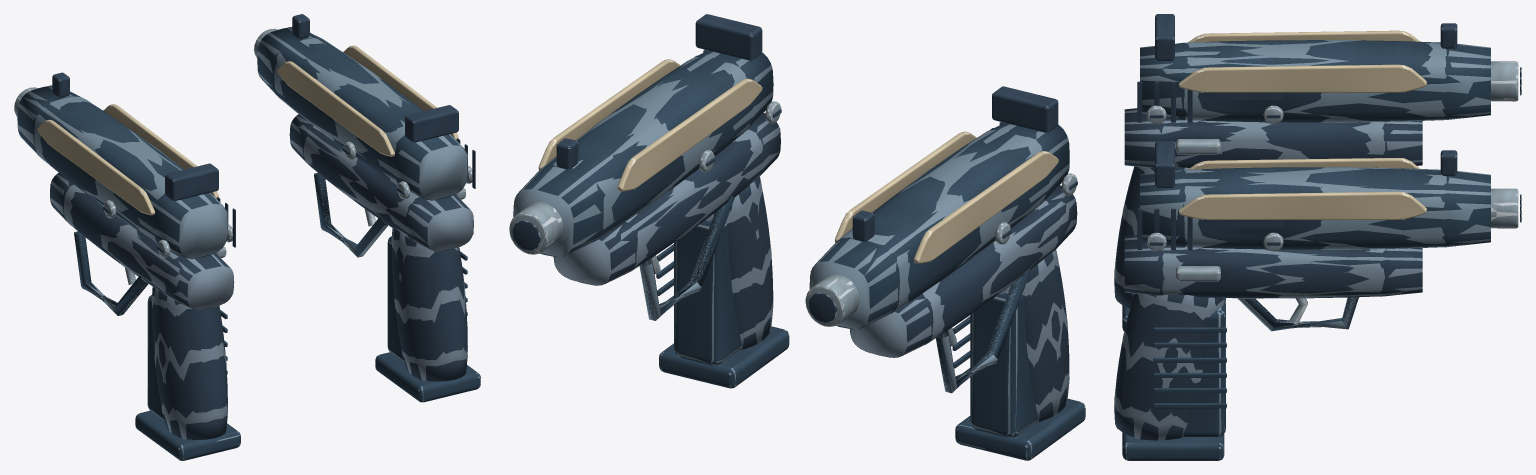
Rendered from anime-elite.glb.
3 renders of one model, left to right at view 1: azimuth 30°, elevation 25°; view 2: azimuth 150°, elevation 25°; view 3: azimuth 270°, elevation 25°, orthographic. The views are drawn at different scales.
Parts seen in each view (by area): view 1: weapon_Polymer, slide_Weapon finish / Parkerized steel, World hardware, World paint, slide_Weapon finish / Twin ivory inlay, magazine_Parkerized steel, slide_Polymer, weapon_Parkerized steel, weapon_Machined edges; view 2: slide_Weapon finish / Parkerized steel, weapon_Polymer, magazine_Parkerized steel, World hardware, World paint, slide_Weapon finish / Twin ivory inlay, slide_Polymer, weapon_Parkerized steel, weapon_Machined edges; view 3: weapon_Polymer, slide_Weapon finish / Parkerized steel, slide_Weapon finish / Twin ivory inlay, World paint, World hardware, magazine_Parkerized steel, weapon_Machined edges, slide_Polymer, weapon_Parkerized steel.
Part boxes in pixels (x1,y1,x2,y2): weapon_Polymer: [50, 114, 473, 439]; slide_Weapon finish / Parkerized steel: [17, 27, 467, 258]; World hardware: [14, 14, 480, 460]; World paint: [17, 27, 467, 259]; slide_Weapon finish / Twin ivory inlay: [38, 45, 458, 215]; magazine_Parkerized steel: [135, 236, 480, 460]; slide_Polymer: [52, 14, 475, 247]; weapon_Parkerized steel: [74, 173, 467, 374]; weapon_Machined edges: [14, 29, 472, 257]; slide_Weapon finish / Parkerized steel: [513, 50, 1069, 329]; weapon_Polymer: [512, 109, 1077, 421]; magazine_Parkerized steel: [659, 220, 1085, 460]; World hardware: [509, 14, 1085, 460]; World paint: [514, 50, 1069, 329]; slide_Weapon finish / Twin ivory inlay: [538, 59, 1058, 263]; slide_Polymer: [556, 14, 1058, 241]; weapon_Parkerized steel: [641, 196, 1030, 393]; weapon_Machined edges: [509, 101, 1076, 326]; weapon_Polymer: [1114, 67, 1521, 440]; slide_Weapon finish / Parkerized steel: [1140, 40, 1490, 249]; slide_Weapon finish / Twin ivory inlay: [1179, 30, 1426, 219]; World paint: [1140, 31, 1490, 249]; World hardware: [1114, 14, 1521, 460]; magazine_Parkerized steel: [1122, 298, 1225, 460]; weapon_Machined edges: [1146, 61, 1518, 281]; slide_Polymer: [1137, 14, 1457, 249]; weapon_Parkerized steel: [1153, 297, 1358, 408].
Size of the model in its own units: 0.2375 by 0.194 by 0.2439.
7 materials, 5 textured.
